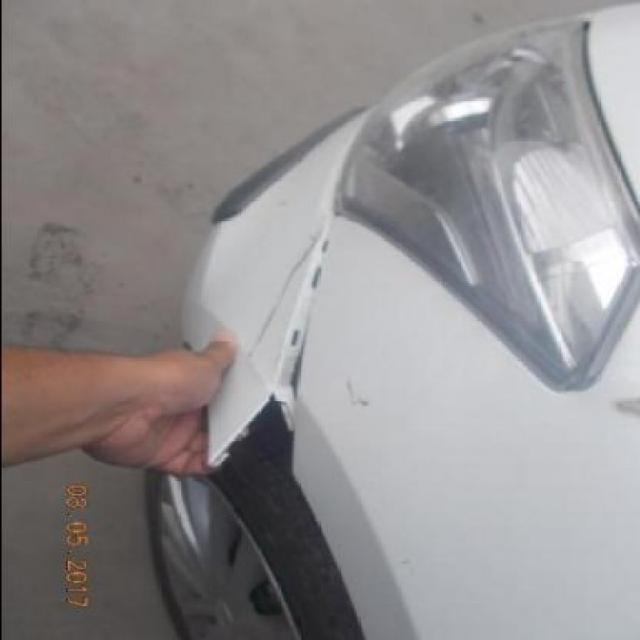damage: (216, 214, 340, 484), (244, 221, 317, 358), (339, 374, 379, 411), (605, 388, 640, 430)
